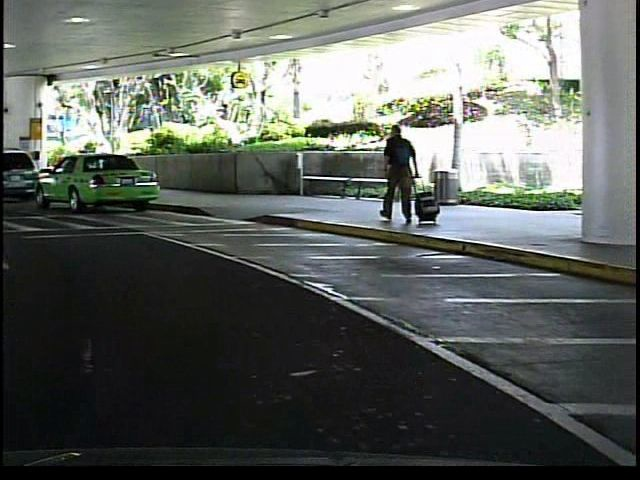person: (374, 113, 421, 231)
